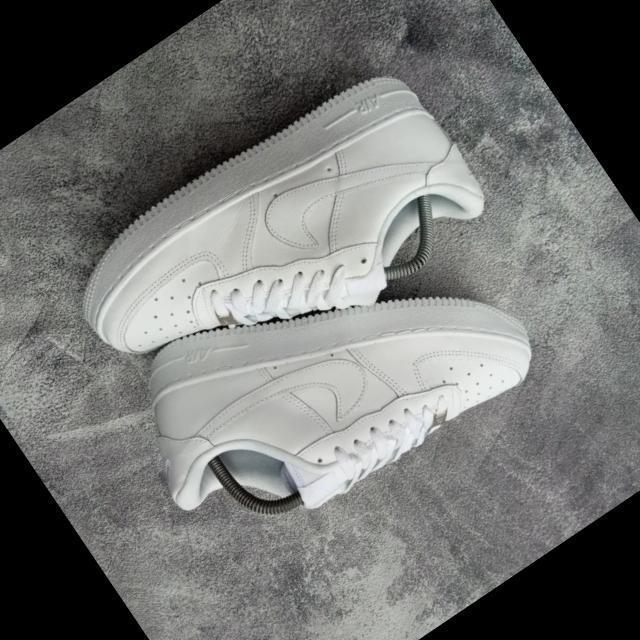nike fake air force: (91, 170, 552, 584), (51, 39, 504, 440)
